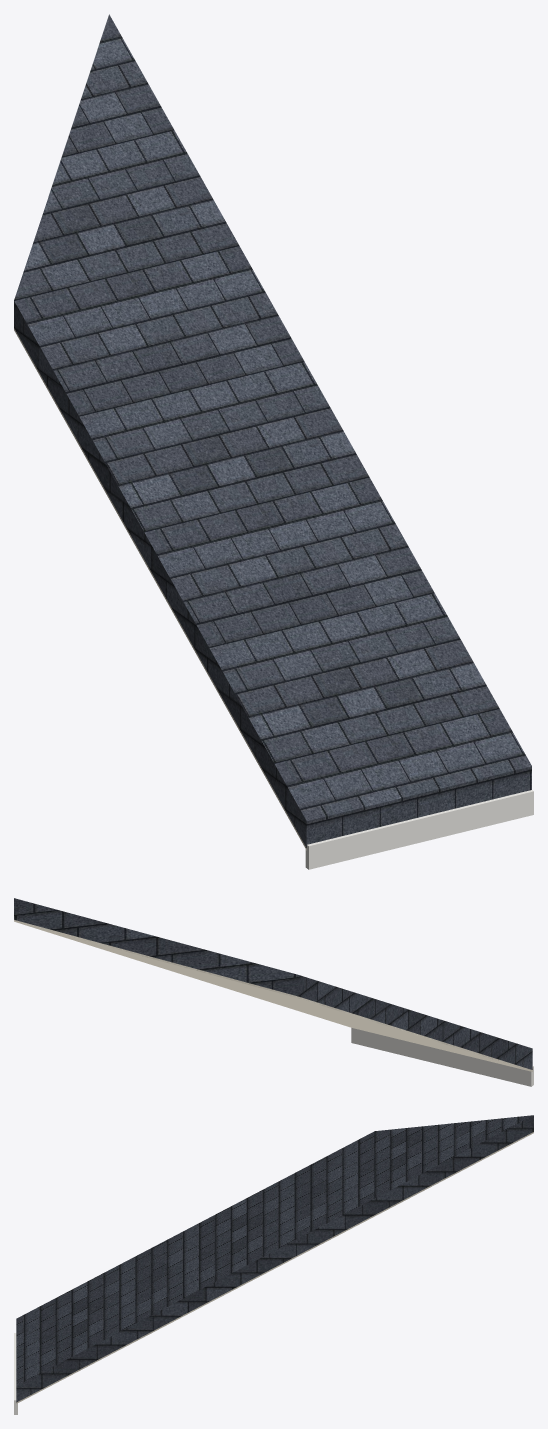
The model's file is roof_hip_1_l.glb.
The picture shows the model from 3 angles, top to bottom: view 1: azimuth 30°, elevation 25°; view 2: azimuth 150°, elevation 25°; view 3: azimuth 270°, elevation 25°; orthographic projection. The views are drawn at different scales.
Visible parts, largest first — view 1: roof_hip_1_l_shingle, roof_hip_1_l_trim, roof_hip_1_l_plaster; view 2: roof_hip_1_l_shingle, roof_hip_1_l_plaster, roof_hip_1_l_trim; view 3: roof_hip_1_l_shingle, roof_hip_1_l_plaster.
Part boxes in pixels (bbox=[...]): roof_hip_1_l_shingle: bbox=[14, 14, 531, 847]; roof_hip_1_l_trim: bbox=[305, 790, 533, 869]; roof_hip_1_l_plaster: bbox=[14, 328, 306, 850]; roof_hip_1_l_shingle: bbox=[14, 898, 532, 1069]; roof_hip_1_l_plaster: bbox=[14, 920, 532, 1071]; roof_hip_1_l_trim: bbox=[351, 1028, 533, 1086]; roof_hip_1_l_shingle: bbox=[16, 1115, 533, 1402]; roof_hip_1_l_plaster: bbox=[16, 1132, 533, 1403].
Size of the model in its own units: 2 by 4.15 by 6.53.
3 materials, 2 textured.
